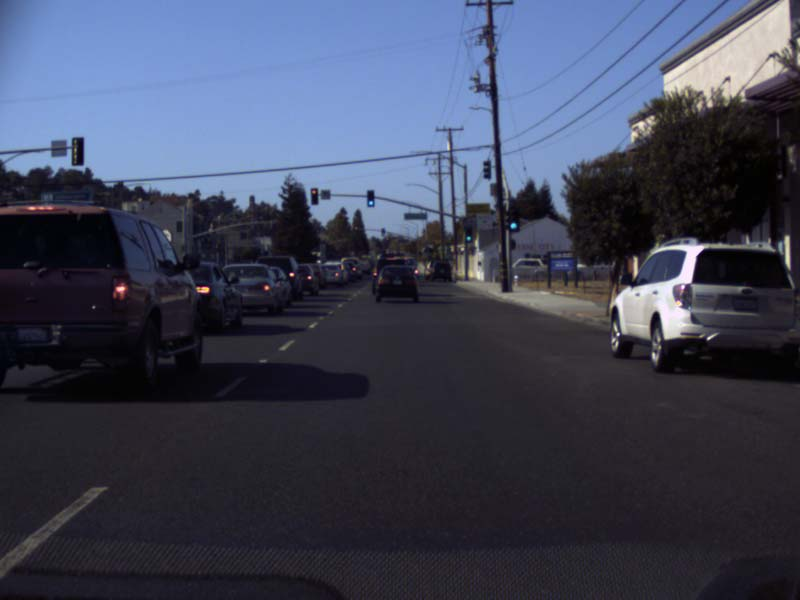Green: (509, 209, 518, 230), (367, 190, 374, 207), (465, 226, 471, 241), (381, 227, 385, 235)
Red: (311, 188, 317, 204)
